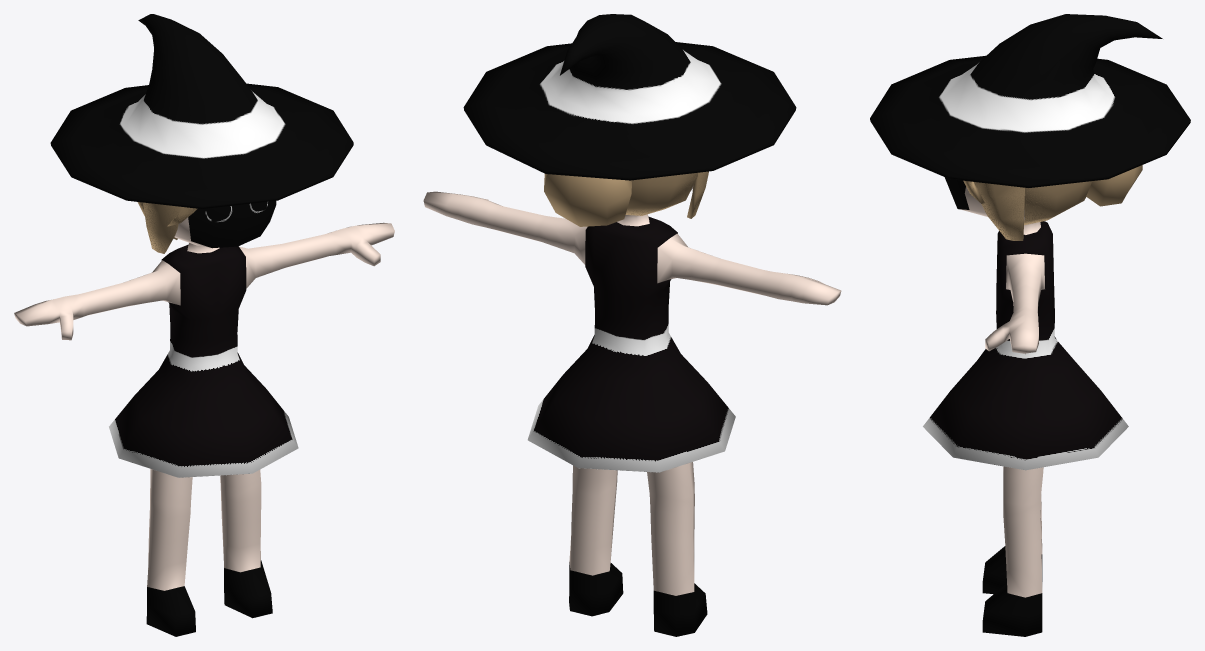
Rendered from Witch Character .fbx.
The picture shows the model from 3 angles, left to right: view 1: azimuth 30°, elevation 25°; view 2: azimuth 150°, elevation 25°; view 3: azimuth 270°, elevation 25°; orthographic projection. The views are drawn at different scales.
Visible parts, largest first — view 1: Hat, Dress, Body Done, Face Done, Hair Done; view 2: Hat, Dress, Body Done, Hair Bun, Hair Done, Hair Done 2; view 3: Hat, Dress, Body Done, Hair Done, Hair Bun, Hair Done 2, Face Done.
Boxes of the visible parts, bbox=[...] form: Hat: bbox=[50, 14, 353, 209]; Dress: bbox=[109, 245, 298, 477]; Body Done: bbox=[14, 217, 394, 636]; Face Done: bbox=[188, 201, 276, 248]; Hair Done: bbox=[137, 202, 197, 253]; Hat: bbox=[463, 14, 796, 180]; Dress: bbox=[527, 216, 735, 472]; Body Done: bbox=[423, 186, 841, 636]; Hair Bun: bbox=[544, 174, 631, 226]; Hair Done: bbox=[625, 171, 708, 218]; Hair Done 2: bbox=[626, 172, 705, 216]; Hat: bbox=[870, 14, 1190, 187]; Dress: bbox=[923, 221, 1128, 470]; Body Done: bbox=[960, 186, 1044, 636]; Hair Done: bbox=[963, 180, 1091, 240]; Hair Bun: bbox=[1086, 165, 1142, 206]; Hair Done 2: bbox=[964, 181, 1091, 240]; Face Done: bbox=[944, 177, 969, 209].
Bounding box in the file's own units: 343 × 493 × 243.
